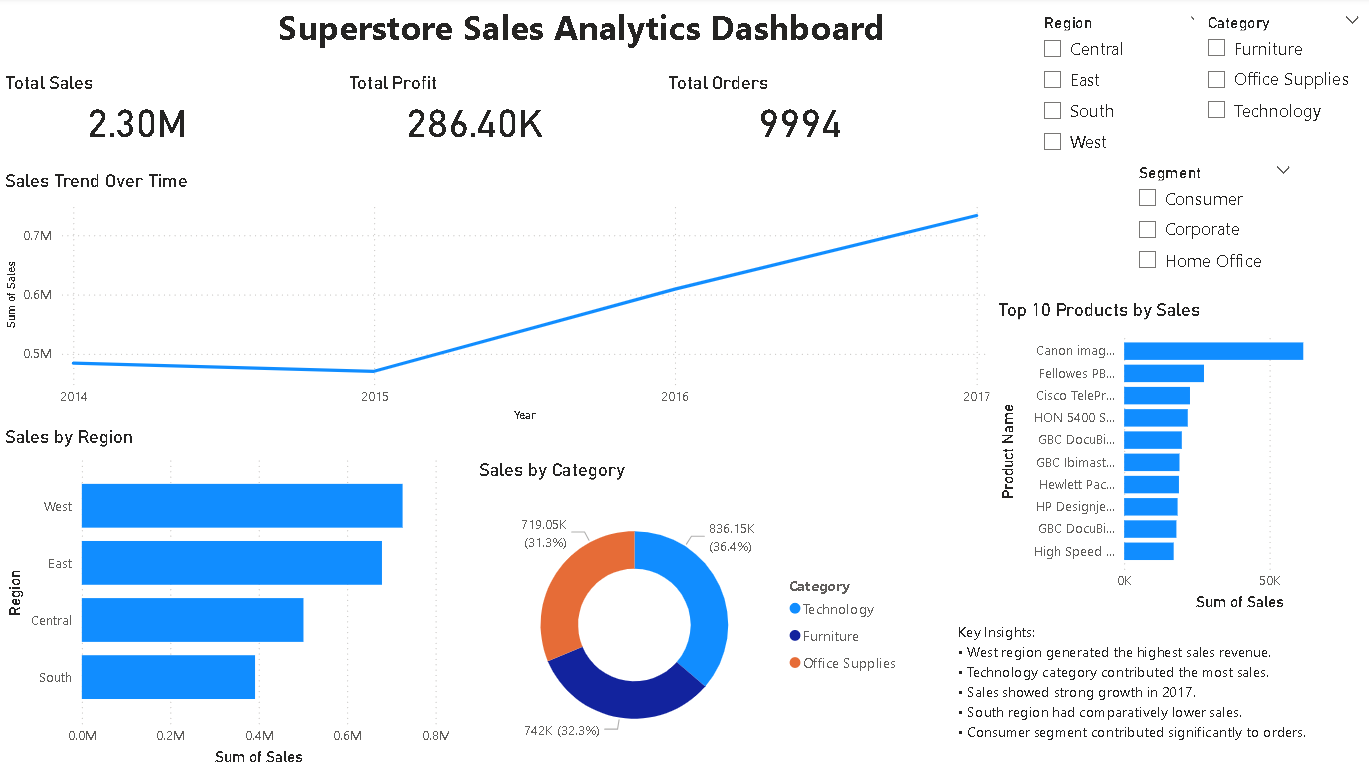

This screenshot's page, from the dashboard's own definition file:
{"tool":"powerbi","page":{"name":"Page 1","canvas":[1280,720],"ordinal":0},"visuals":[{"type":"card","title":"Total Sales","fields":{"Values":["Sum(Sample - Superstore.Sales)"]},"box":[0,69.9,254.6,69.9],"z":0},{"type":"card","title":"Total Profit","fields":{"Values":["Sum(Sample - Superstore.Profit)"]},"box":[320.4,69.9,243.4,69.9],"z":1000},{"type":"card","title":"Total Orders","fields":{"Values":["CountNonNull(Sample - Superstore.Order ID)"]},"box":[618.4,69.9,254.6,69.9],"z":2000},{"type":"lineChart","title":"Sales Trend Over Time","fields":{"Category":["Sample - Superstore.Order Date.Variation.Date Hierarchy.Year","Sample - Superstore.Order Date.Variation.Date Hierarchy.Quarter","Sample - Superstore.Order Date.Variation.Date Hierarchy.Month","Sample - Superstore.Order Date.Variation.Date Hierarchy.Day"],"Y":["Sum(Sample - Superstore.Sales)"]},"box":[0,160.9,927.5,239.2],"z":3000},{"type":"clusteredBarChart","title":"Sales by Region","fields":{"Category":["Sample - Superstore.Region"],"Y":["Sum(Sample - Superstore.Sales)"]},"box":[0,400.1,423.9,320.4],"z":4000},{"type":"donutChart","title":"Sales by Category","fields":{"Y":["Sum(Sample - Superstore.Sales)"],"Category":["Sample - Superstore.Category"]},"box":[442.1,430.9,408.5,289.6],"z":5000},{"type":"slicer","fields":{"Values":["Sample - Superstore.Region"]},"box":[961.1,9.8,174.9,139.9],"z":5001},{"type":"slicer","fields":{"Values":["Sample - Superstore.Category"]},"box":[1113.6,9.8,166.5,139.9],"z":5002},{"type":"slicer","fields":{"Values":["Sample - Superstore.Segment"]},"box":[1049.2,149.7,166.5,121.7],"z":5003},{"type":"clusteredBarChart","title":"Top 10 Products by Sales","fields":{"Category":["Sample - Superstore.Product Name"],"Y":["Sum(Sample - Superstore.Sales)"]},"box":[926.1,281.2,353.9,295.2],"z":5004},{"type":"textbox","box":[254.6,0,671.5,53.2],"z":5005},{"type":"textbox","box":[888.4,576.4,381.9,131.5],"z":5006}]}

Visuals, with their boxes in screenshot pixels (x1, y1, x2, y2), scaled from the page's 1280x720 canvas onto the 1369x765 screenshot:
"Total Sales" card: box(0, 74, 272, 149)
"Total Profit" card: box(343, 74, 603, 149)
"Total Orders" card: box(661, 74, 934, 149)
"Sales Trend Over Time" lineChart: box(0, 171, 992, 425)
"Sales by Region" clusteredBarChart: box(0, 425, 453, 764)
"Sales by Category" donutChart: box(473, 458, 910, 764)
slicer - Sample - Superstore.Region: box(1028, 10, 1215, 159)
slicer - Sample - Superstore.Category: box(1191, 10, 1368, 159)
slicer - Sample - Superstore.Segment: box(1122, 159, 1300, 288)
"Top 10 Products by Sales" clusteredBarChart: box(990, 299, 1368, 612)
textbox: box(272, 0, 990, 57)
textbox: box(950, 612, 1359, 752)
